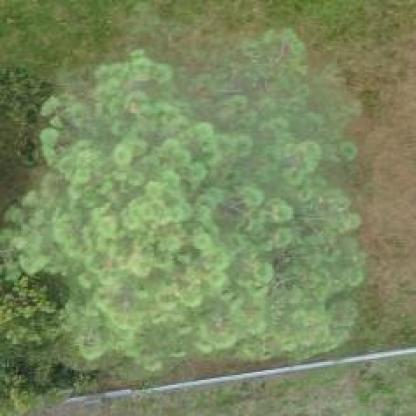Coniferous Tree: (0, 30, 388, 358)
